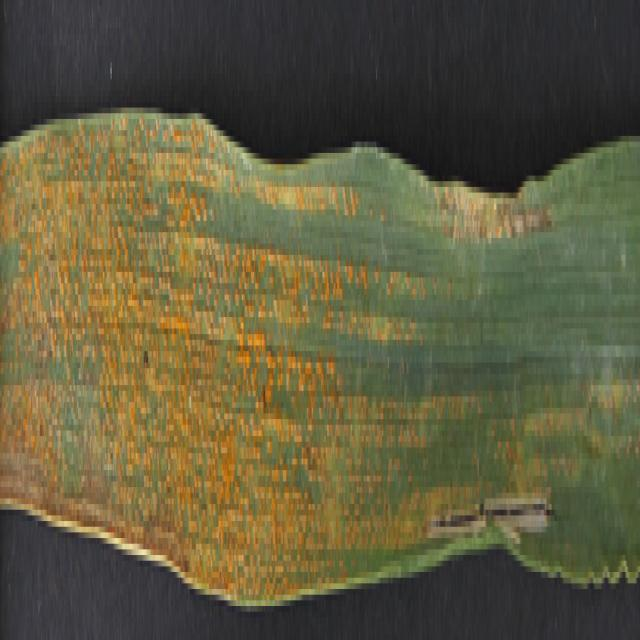leaf rust: (1, 74, 558, 566)
